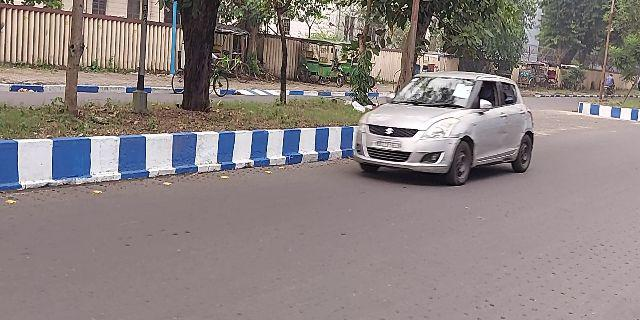Car: (354, 68, 542, 187)
